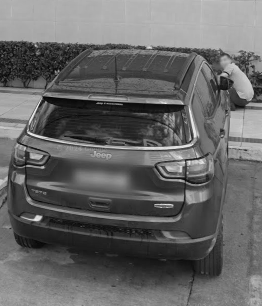car: (10, 44, 235, 274)
